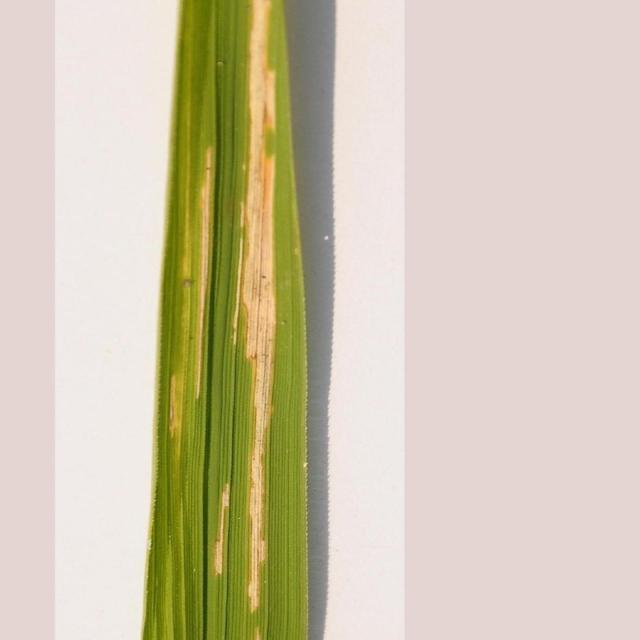Bacterial leaf blight: (236, 0, 296, 629), (169, 127, 217, 465), (198, 478, 231, 579)
